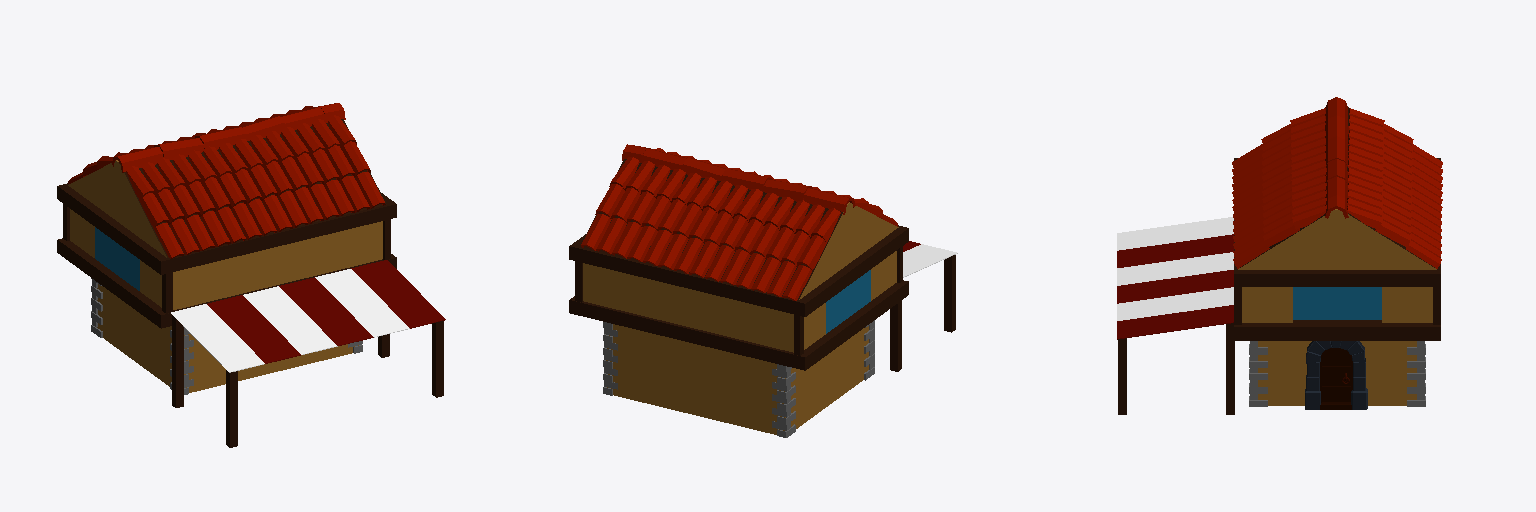
The model's file is Bakery.obj.
3 renders of one model, left to right at view 1: azimuth 30°, elevation 25°; view 2: azimuth 150°, elevation 25°; view 3: azimuth 270°, elevation 25°, orthographic.
Parts seen in each view (by area): view 1: Bakery_Cube.001; view 2: Bakery_Cube.001; view 3: Bakery_Cube.001.
Part boxes in pixels (x1,y1,x2,y2): Bakery_Cube.001: (57, 103, 445, 447); Bakery_Cube.001: (569, 144, 957, 437); Bakery_Cube.001: (1117, 97, 1442, 414).
Size of the model in its own units: 10.02 by 8.7 by 12.01.